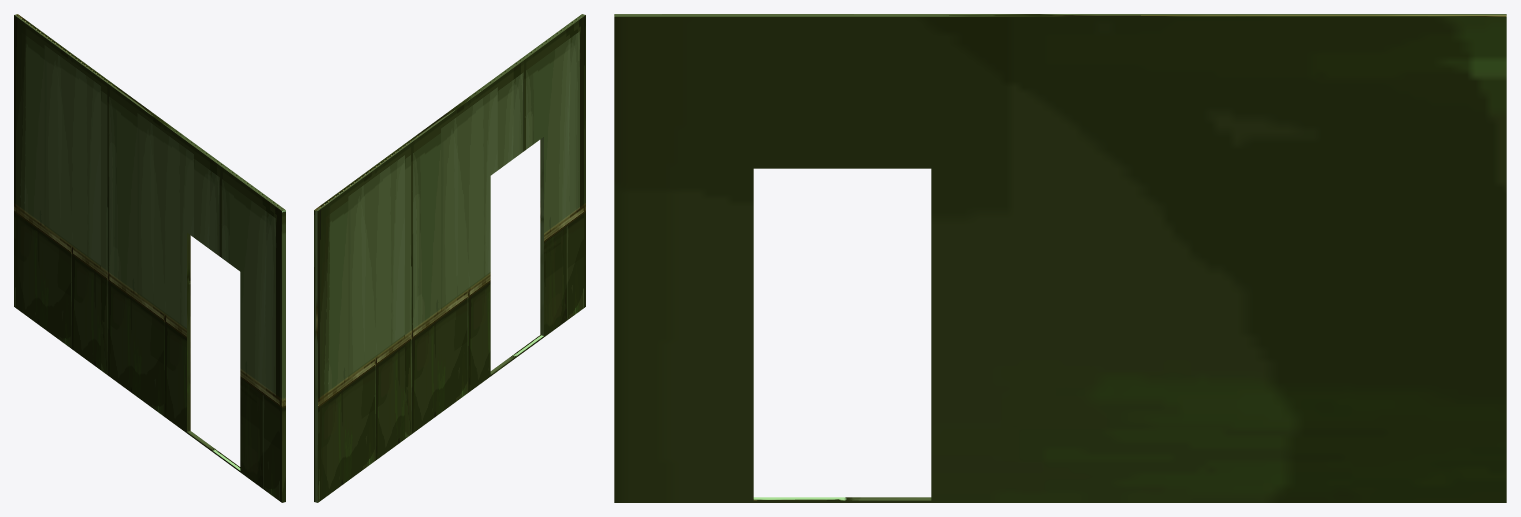
File: SM_kitchwallback.fbx
The picture shows the model from 3 angles, left to right: view 1: azimuth 30°, elevation 25°; view 2: azimuth 150°, elevation 25°; view 3: azimuth 270°, elevation 25°; orthographic projection. The views are drawn at different scales.
Parts seen in each view (by area): view 1: Cube.003; view 2: Cube.003; view 3: Cube.003.
Boxes of the visible parts, x1,y1,x2,y2 form: Cube.003: (14,14,285,502); Cube.003: (314,14,585,502); Cube.003: (614,14,1506,502).
Size of the model in its own units: 4.21 by 307 by 511.
